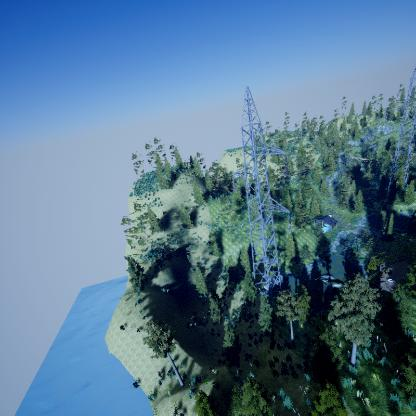tower: (225, 84, 294, 297)
